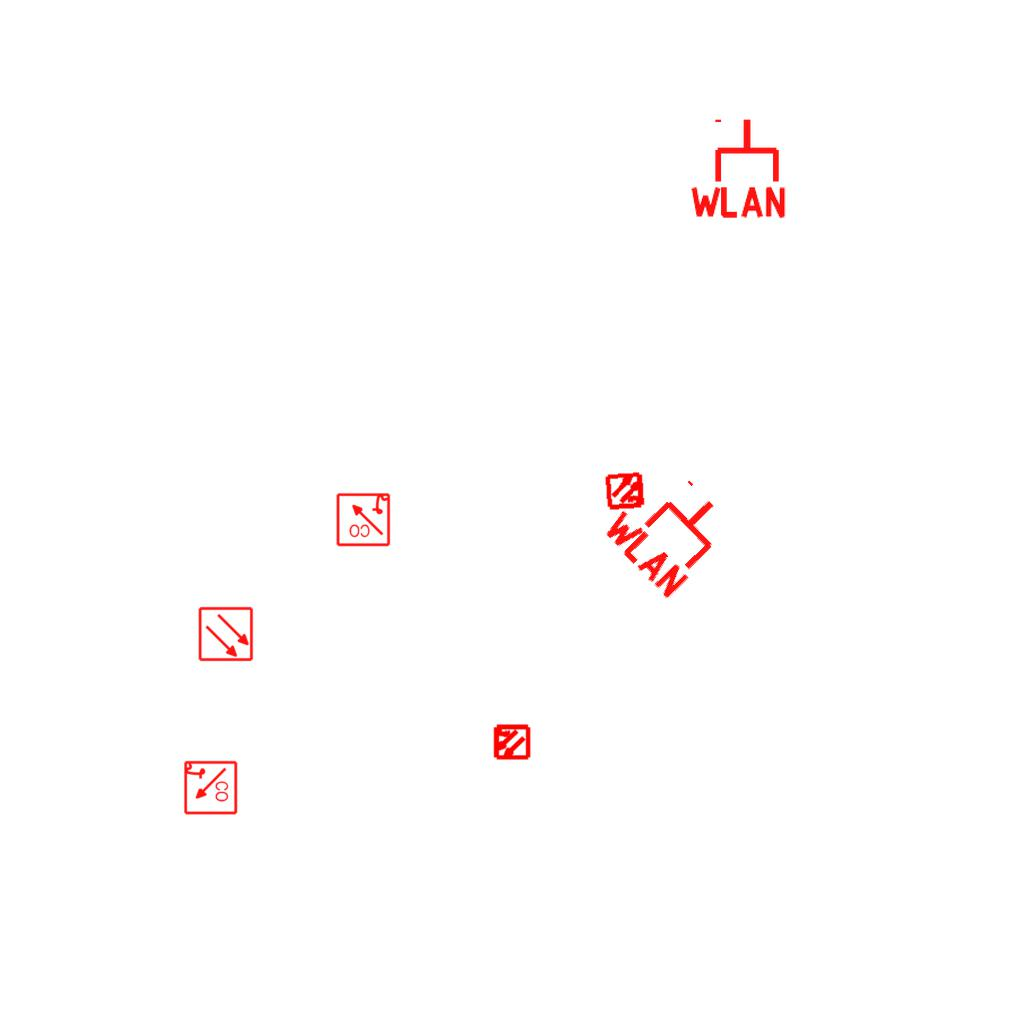OT_Multisensormelder_(Kombination_RMO_WMD): (596, 461, 656, 521), (483, 714, 539, 770)
RMO_Rauchmelder_optischer: (198, 606, 254, 662)
ROA_Rauchmelder_optisch_mit_Signalgeber_(Sockelsirene): (335, 491, 391, 547), (182, 760, 238, 816)
WLAN: (596, 456, 745, 604), (686, 115, 790, 220)
